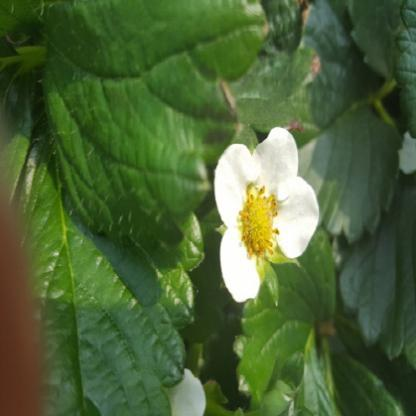Strawberry_Blossom_Blight: (236, 181, 282, 262)
